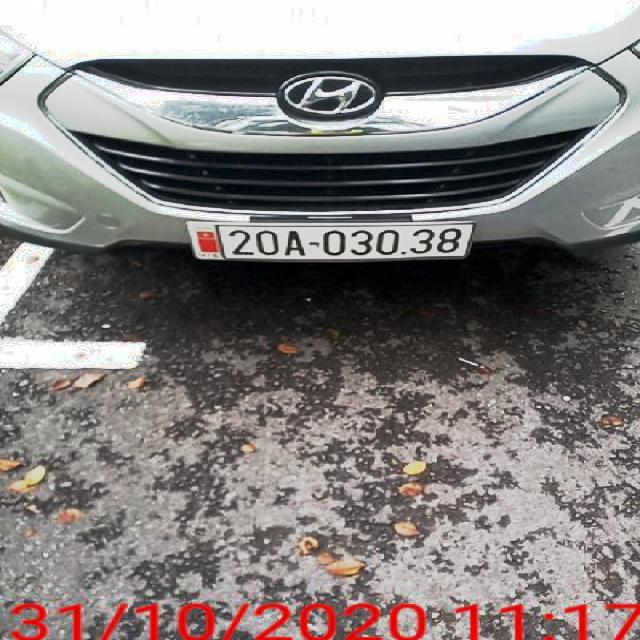license_plate: (187, 220, 478, 261)
